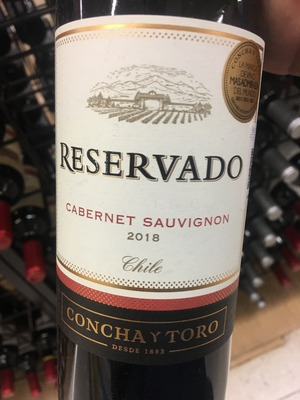reservado cabernet sauvignon: (52, 2, 270, 400)
